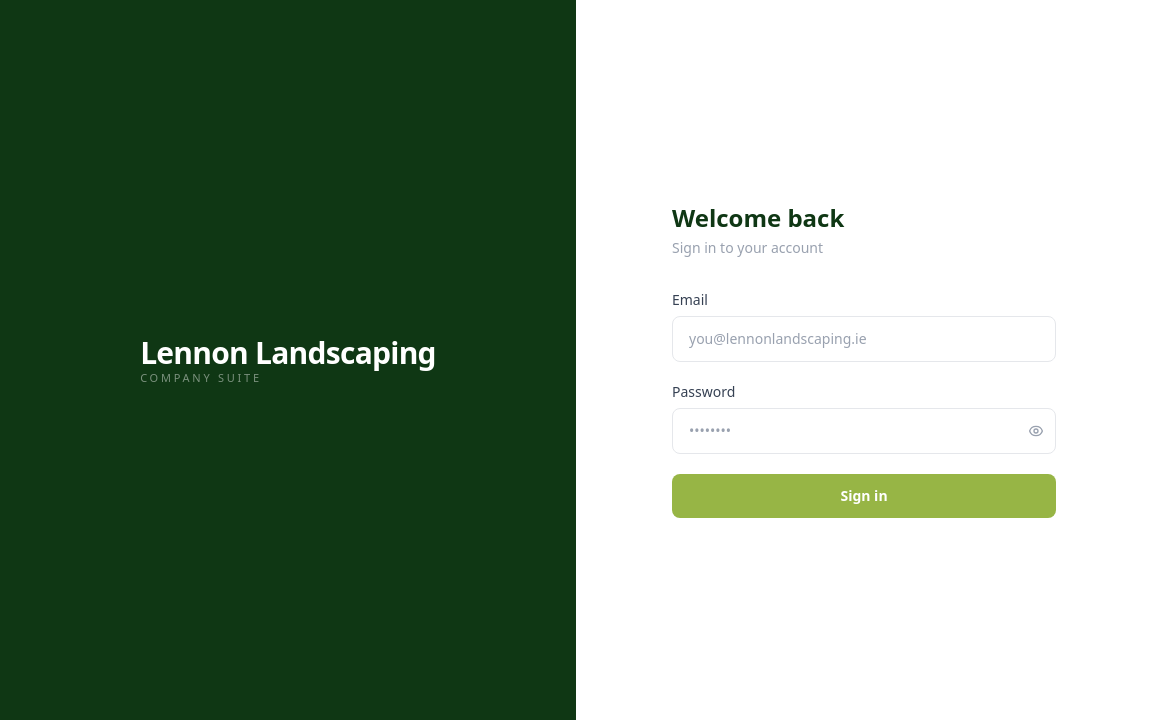
Test: Login › shows error when API returns 401
Type "bad@example.com" into the field with placeholder "you@lennonlandscaping.ie".
click(864, 339); type("bad@example.com")  # box [672,316,1056,362]
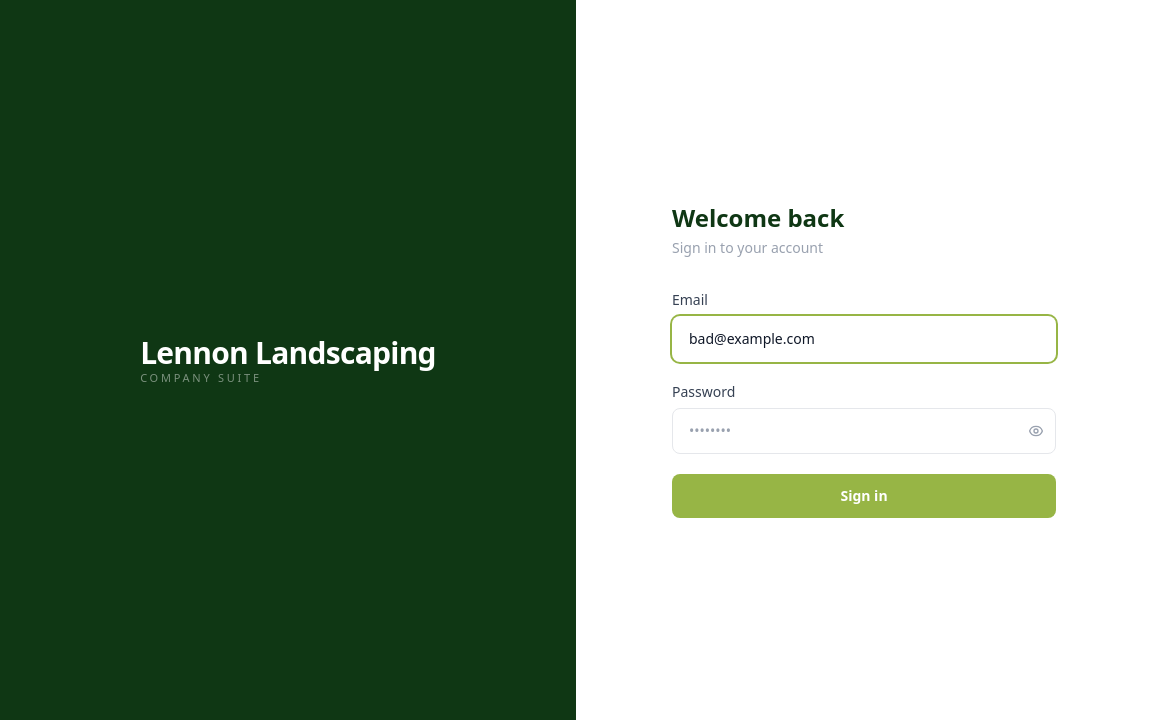
Type "wrongpass" into the password field with placeholder "••••••••".
click(864, 431); type("wrongpass")  # box [672,408,1056,454]
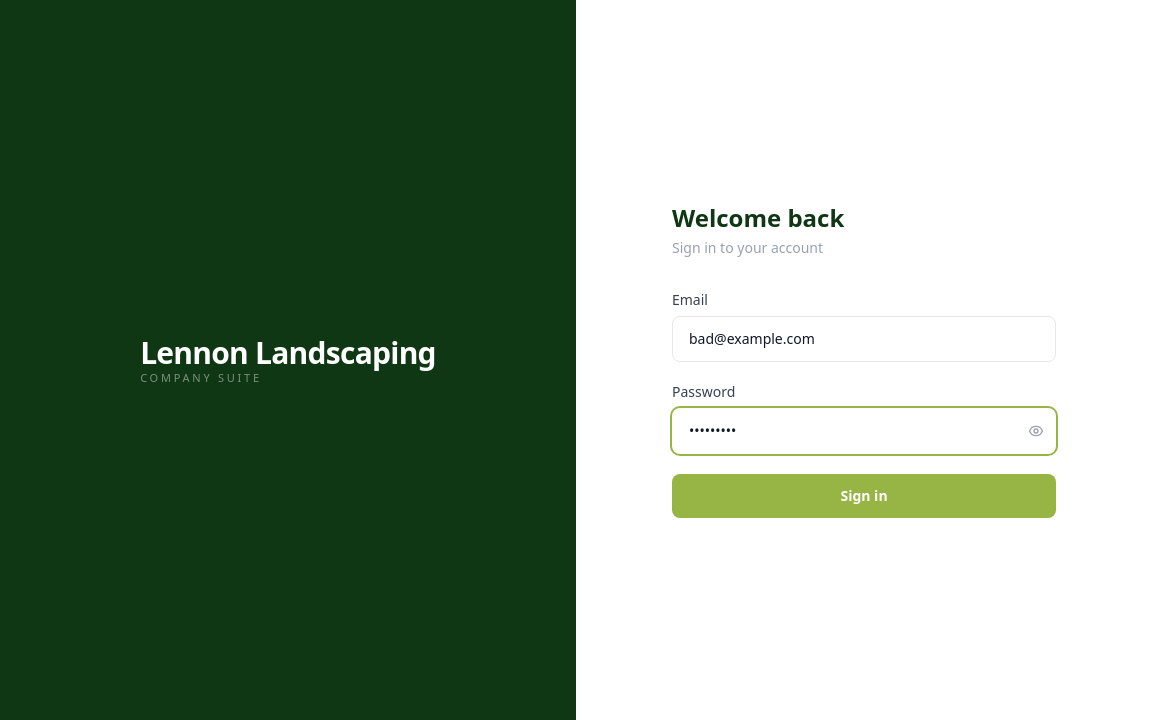
Click the button "Sign in".
click(864, 496)  # box [672,474,1056,518]
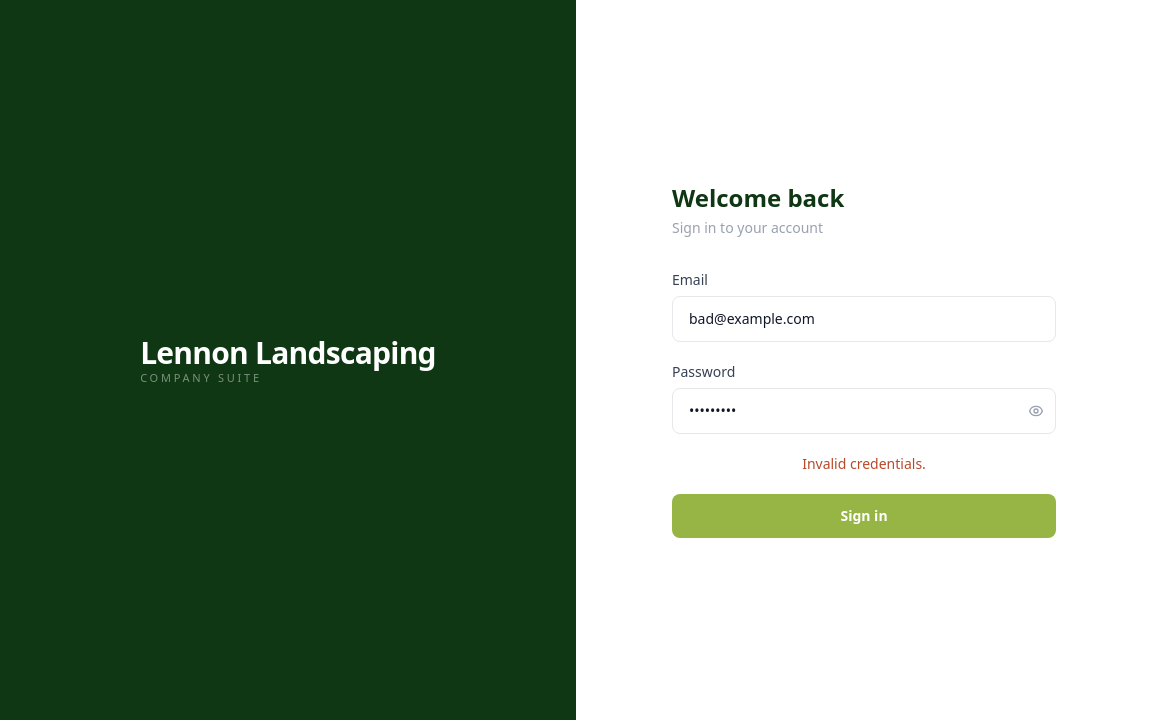
Now the text "Invalid credentials." is shown, box [802,454,926,473]
